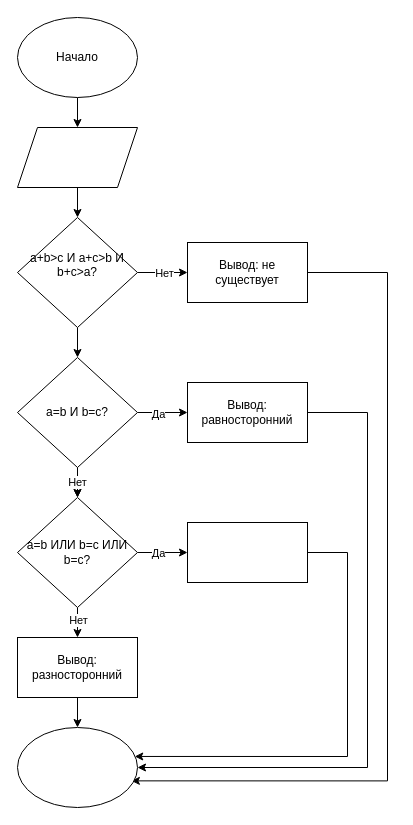
This 413x825 diagram has some shape labels left out. Here are the shapes that lost their labels. From the top down, the box of each, then its label:
(16, 126, 138, 188): Ввести a, b, c
(186, 522, 308, 582): Вывод: равнобедренный
(16, 726, 138, 808): Конец
